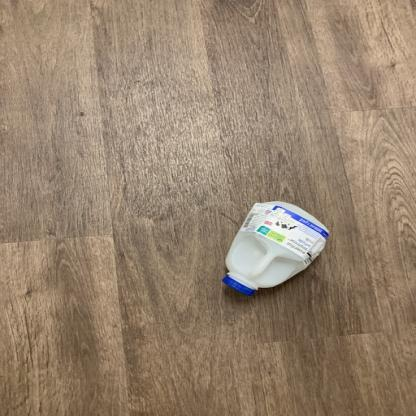trash: (221, 196, 335, 303)
